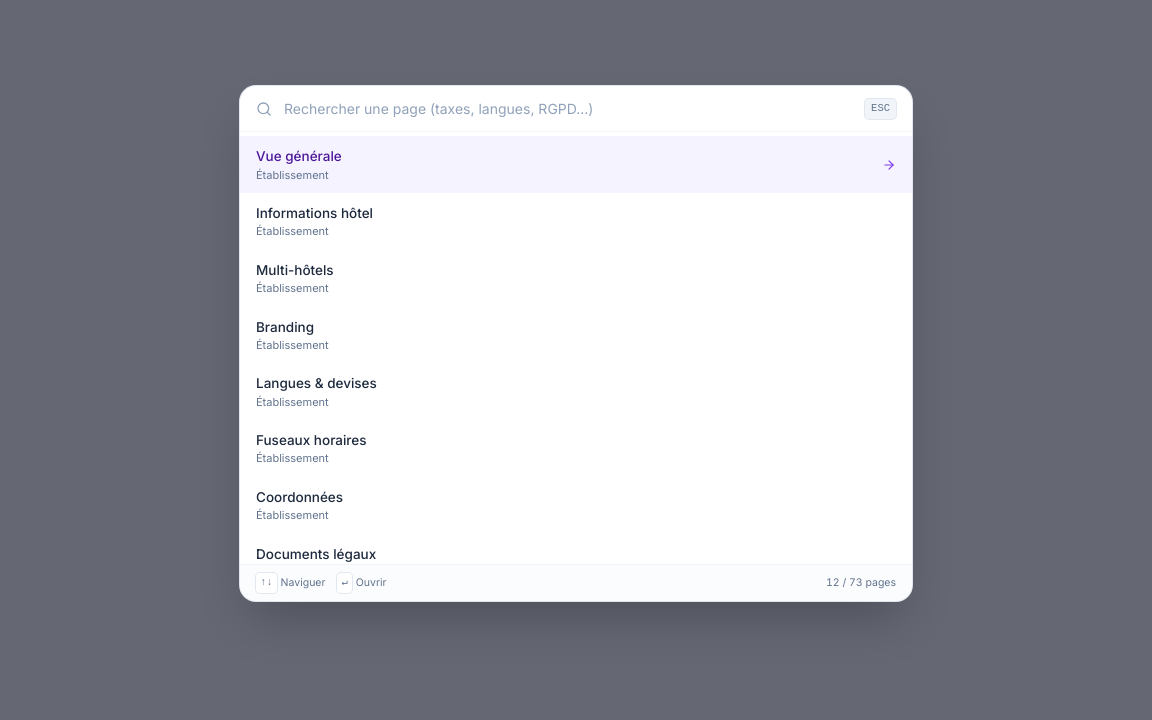
it: <SettingsCommandPalette> › affiche 'Aucun résultat' pour query inconnue
Type "xyzzyxyzzy" into the dropdown with placeholder "Rechercher une page (taxes, langues, RGPD…)" at (569,109), box [284,98,853,119]
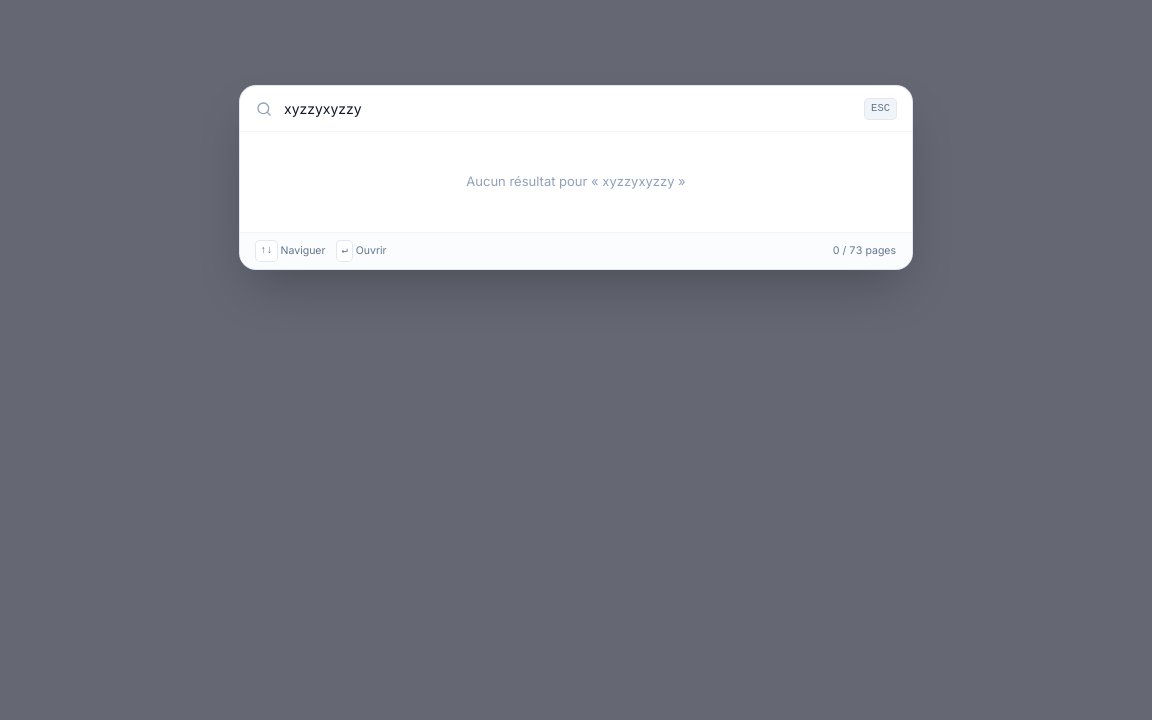
Expected: the text "Aucun résultat pour « xyzzyxyzzy »" is shown, [466,173,686,189]
